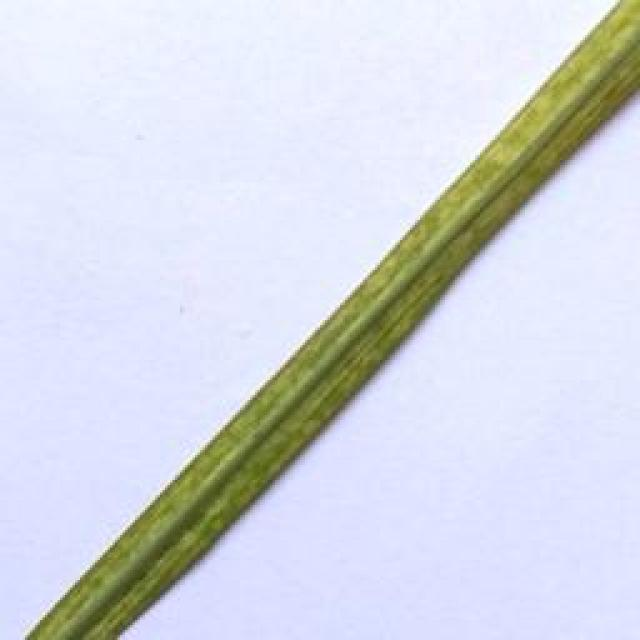Healthy-Plant: (33, 0, 635, 640)
